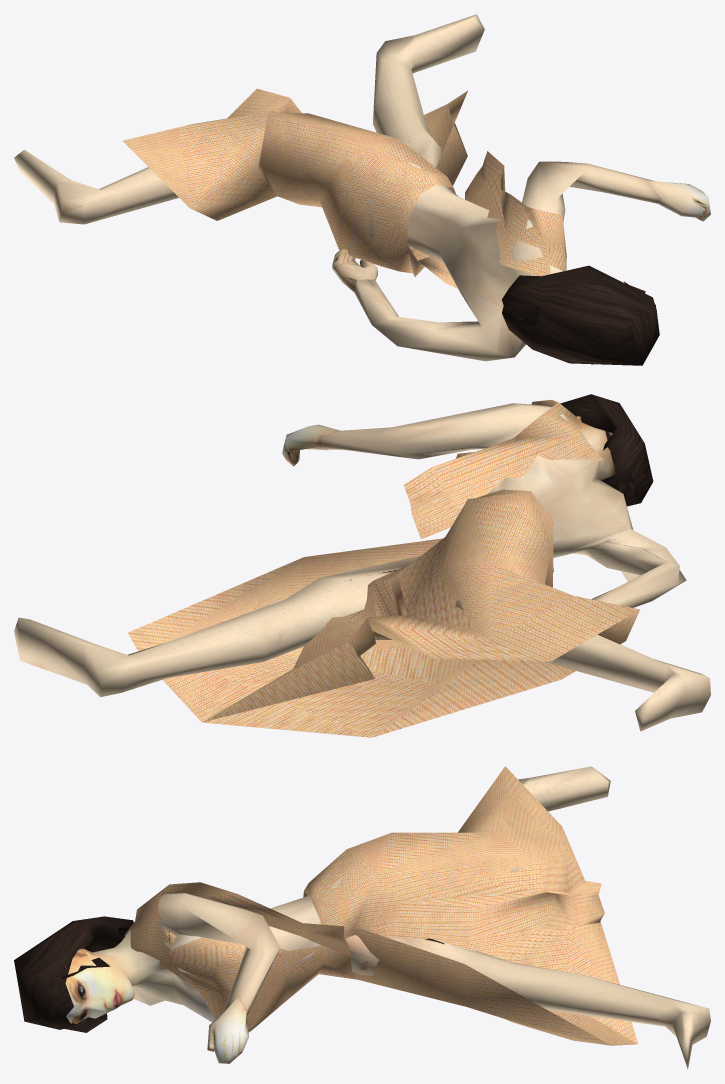
File: female_000109.obj
3 views of the same model, one above another, from view 1: azimuth 30°, elevation 25°; view 2: azimuth 150°, elevation 25°; view 3: azimuth 270°, elevation 25° (orthographic). The views are drawn at different scales.
Parts seen in each view (by area): view 1: saree_Cylinder, body.001_omino.012, hair.000_omino.000; view 2: saree_Cylinder, body.001_omino.012, hair.000_omino.000; view 3: saree_Cylinder, body.001_omino.012, hair.000_omino.000.
Part boxes in pixels (<box>): saree_Cylinder: <box>122,88,566,288</box>; body.001_omino.012: <box>14,14,710,361</box>; hair.000_omino.000: <box>501,265,659,365</box>; saree_Cylinder: <box>128,399,640,737</box>; body.001_omino.012: <box>14,403,710,731</box>; hair.000_omino.000: <box>560,394,653,506</box>; saree_Cylinder: <box>124,766,638,1045</box>; body.001_omino.012: <box>65,766,710,1069</box>; hair.000_omino.000: <box>14,916,133,1032</box>.
Size of the model in its own units: 2.09 by 0.5936 by 2.46.
